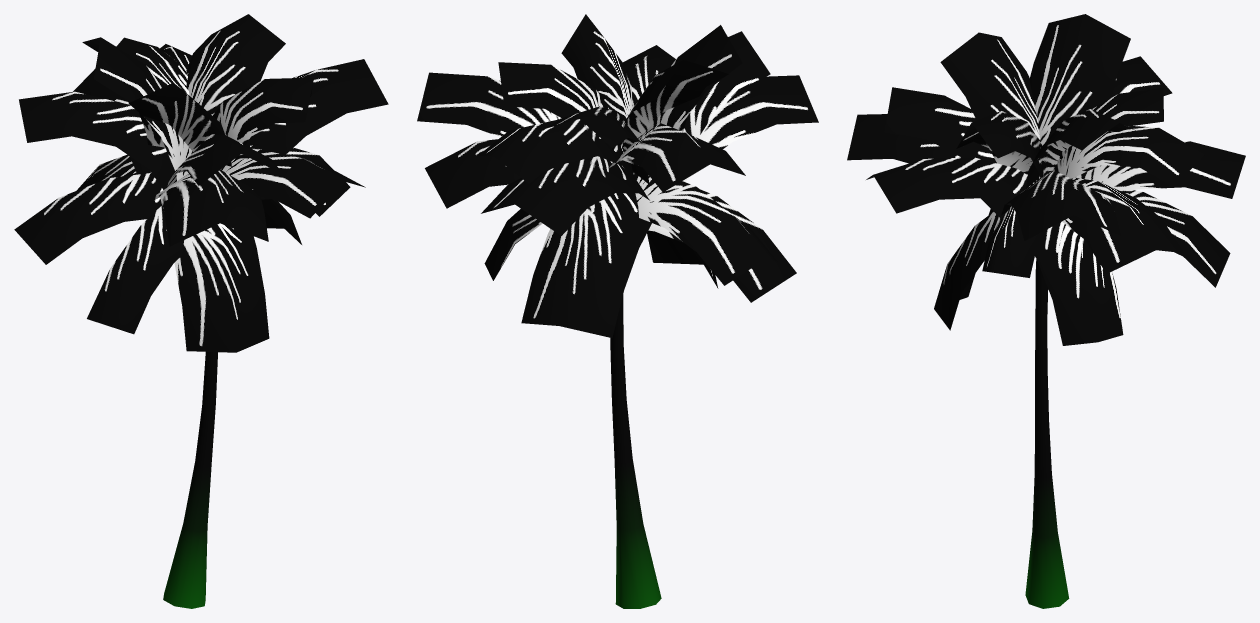
Rendered from P_CoconutPalm03.obj.
3 views of the same model, side by side, from view 1: azimuth 30°, elevation 25°; view 2: azimuth 150°, elevation 25°; view 3: azimuth 270°, elevation 25° (orthographic). The views are drawn at different scales.
Size of the model in its own units: 7.32 by 11.6 by 7.55.
